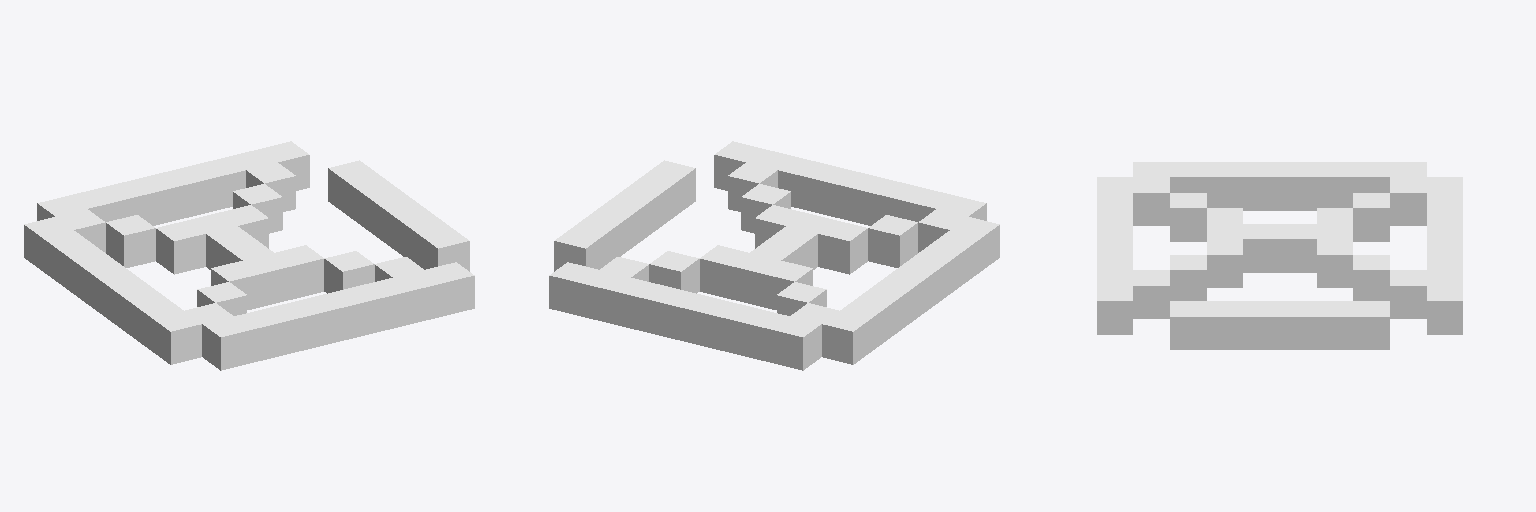
File: Strasse_feld_grade.obj
3 renders of one model, left to right at view 1: azimuth 30°, elevation 25°; view 2: azimuth 150°, elevation 25°; view 3: azimuth 270°, elevation 25°, orthographic.
Parts seen in each view (by area): view 1: object 1; view 2: object 1; view 3: object 1.
Boxes of the visible parts, x1,y1,x2,y2 form: object 1: [24, 141, 474, 370]; object 1: [549, 141, 999, 370]; object 1: [1097, 162, 1462, 349].
Bounding box in the file's own units: 1 × 0.1 × 1.